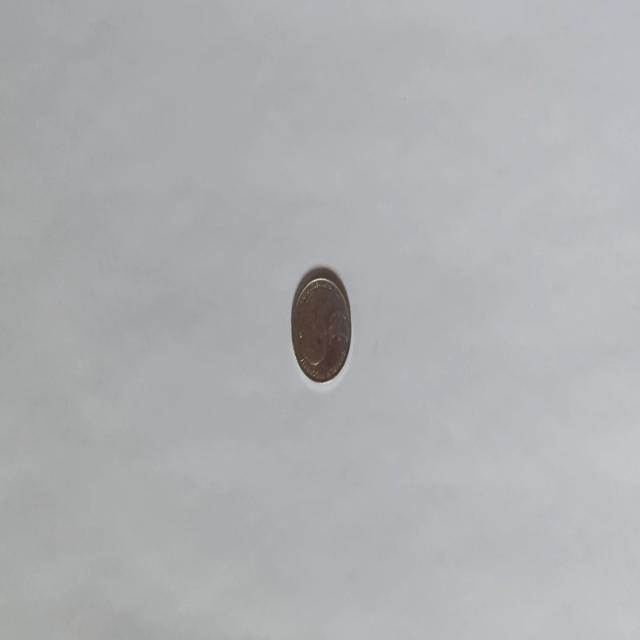seribu rupiah koin: (289, 267, 352, 385)
